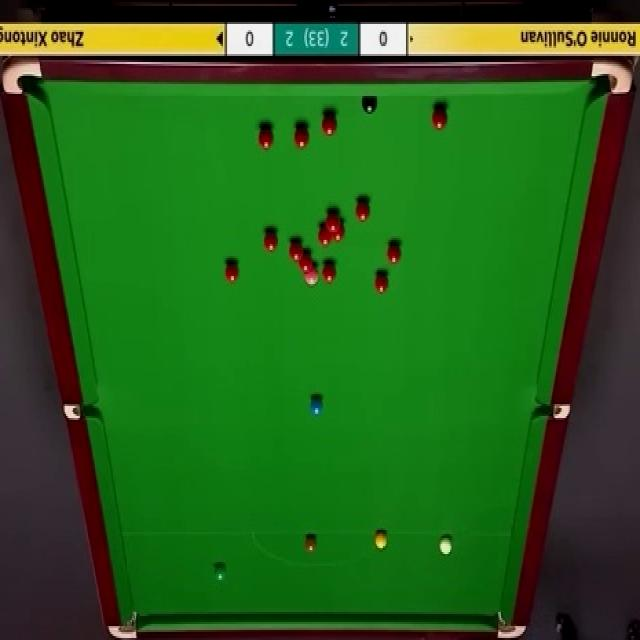black-ball: (358, 96, 376, 115)
blue-ball: (310, 398, 324, 415)
brown-ball: (304, 530, 317, 552)
green-ball: (215, 567, 225, 582)
pink-ball: (304, 266, 318, 286)
red-ball: (316, 221, 333, 247), (320, 112, 338, 136), (294, 124, 309, 152), (432, 107, 449, 131), (352, 199, 368, 223), (224, 262, 240, 286), (386, 242, 402, 263), (375, 270, 388, 294), (326, 210, 340, 232), (258, 127, 272, 149), (290, 238, 303, 260), (331, 222, 345, 241), (299, 254, 313, 273), (264, 232, 278, 250), (324, 264, 337, 283)
white-ball: (439, 538, 454, 558)
yellow-ball: (375, 530, 387, 550)
